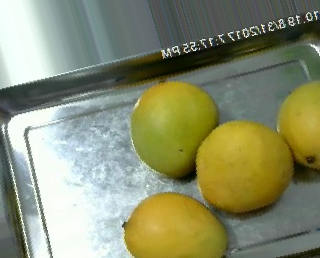Mango: (197, 122, 294, 214), (130, 84, 218, 176), (123, 193, 226, 256), (277, 79, 320, 169)
